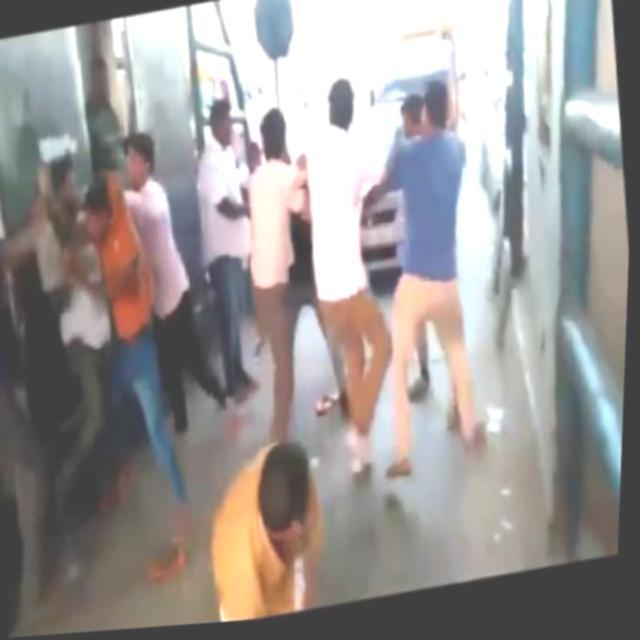fight: (36, 132, 218, 520)
